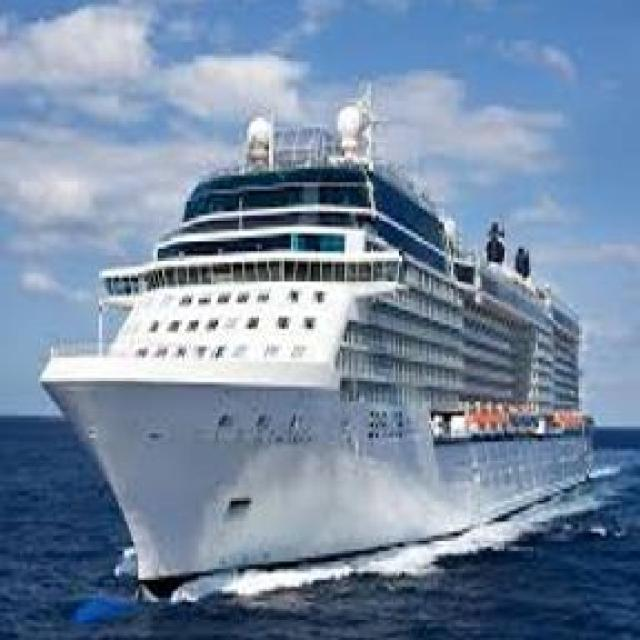passenger ship: (36, 117, 601, 593)
